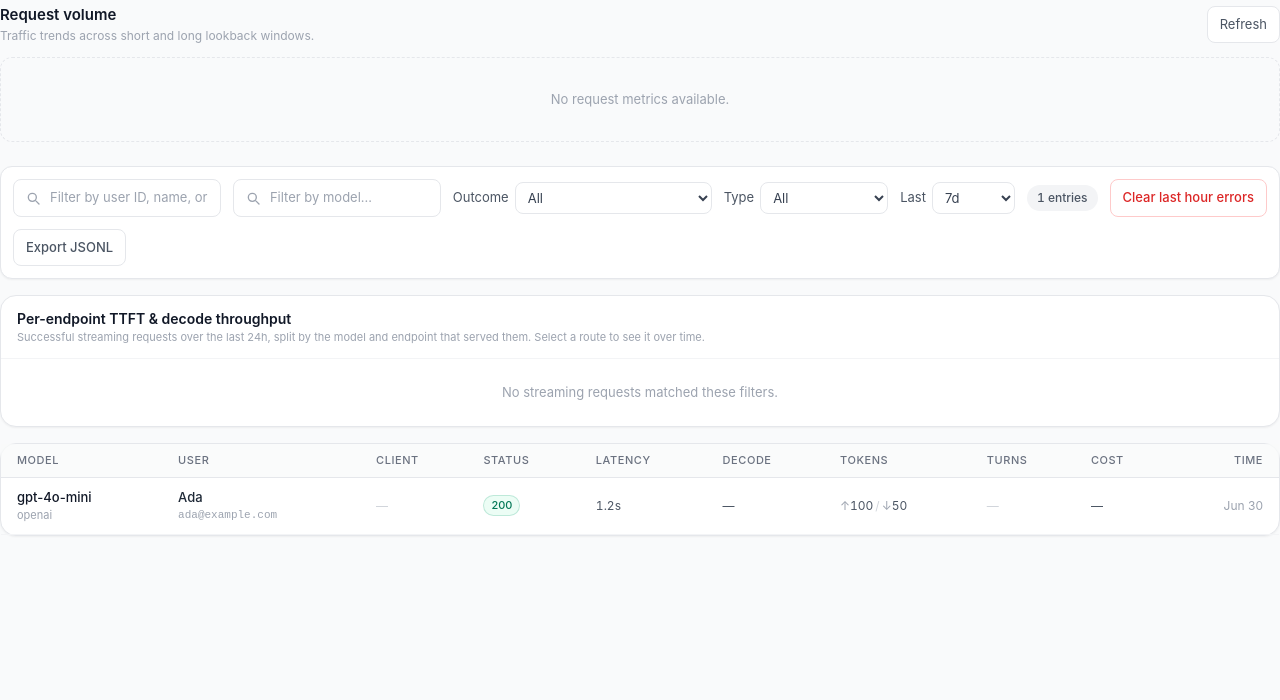
Test case: RequestsTab row expansion › expands a row on a plain click without capturing the pointer
Check: the text "Request ID:" is not shown
Click the text "gpt-4o-mini": (54, 497) x1=17 y1=488 x2=92 y2=507
(page scrolled)
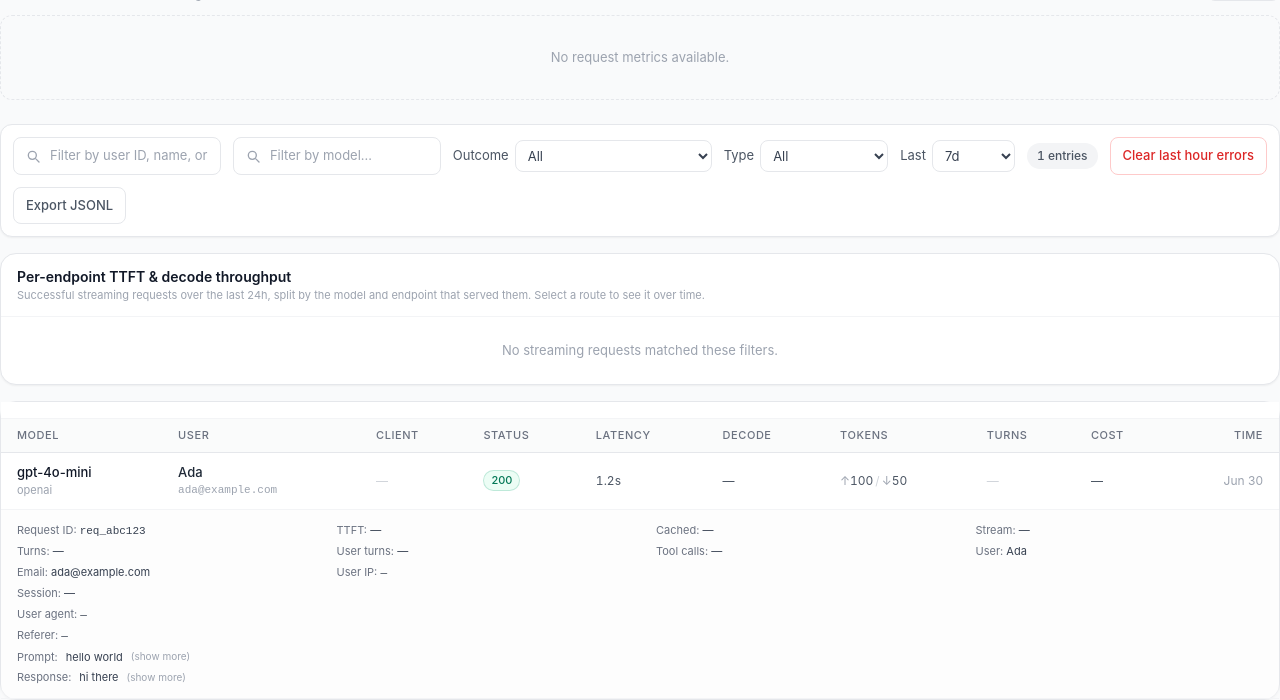
Check: the text "Request ID:" is shown, box x1=17 y1=522 x2=76 y2=536
Check: the text "Prompt:" is shown, box x1=17 y1=648 x2=58 y2=665
